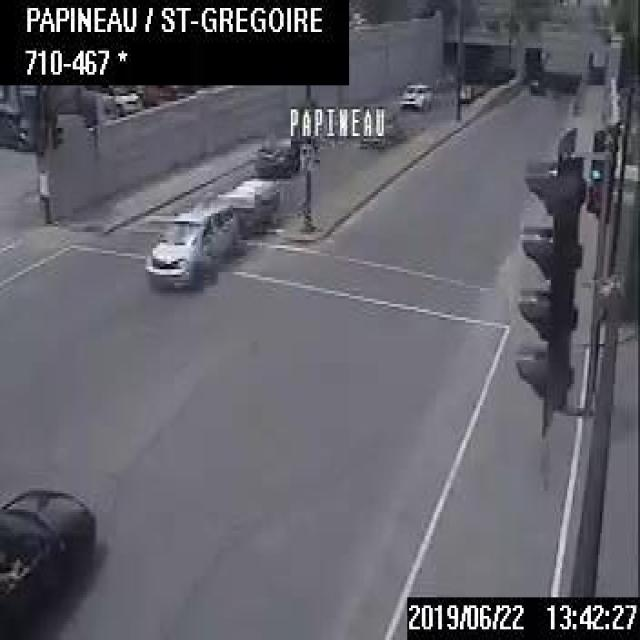vehicle: (144, 173, 281, 285), (0, 483, 93, 637), (84, 84, 144, 117), (255, 133, 301, 175), (400, 77, 437, 112), (452, 77, 483, 104), (526, 72, 544, 96)
